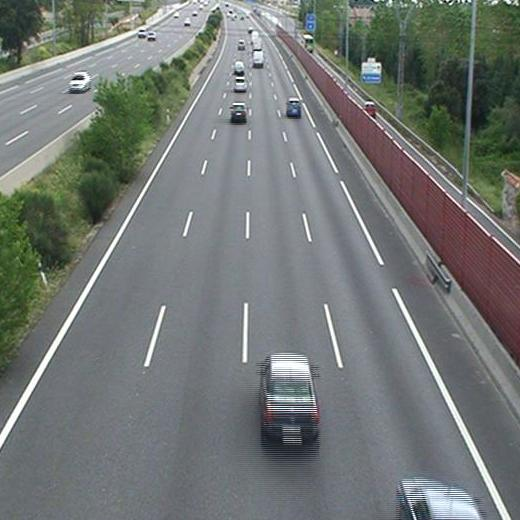car: (261, 356, 318, 434), (286, 98, 301, 115), (231, 104, 246, 119), (234, 78, 247, 92), (234, 61, 245, 73), (236, 40, 245, 48)
van: (253, 50, 263, 66), (252, 37, 261, 50)
